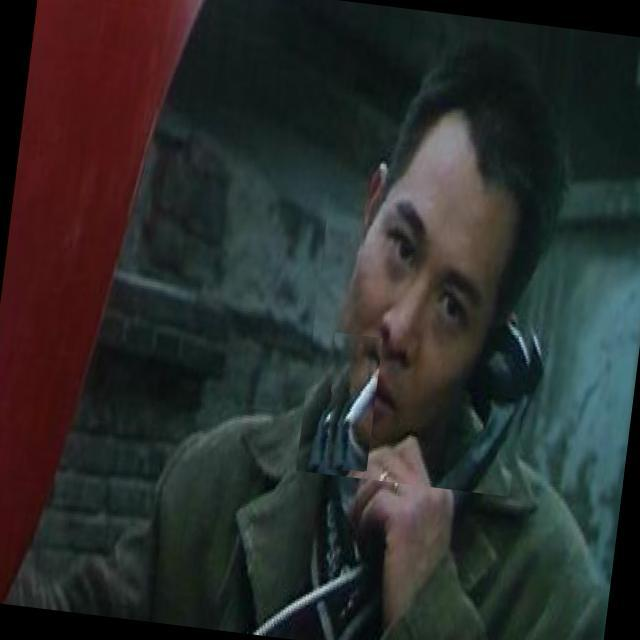cigarette: (318, 332, 382, 474)
